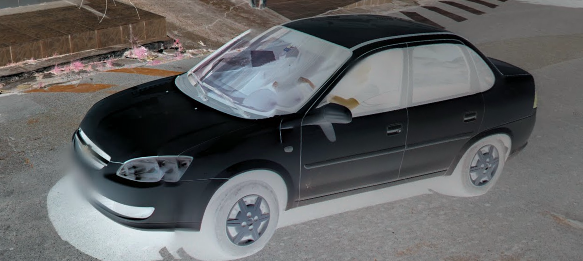car: (69, 15, 538, 254)
